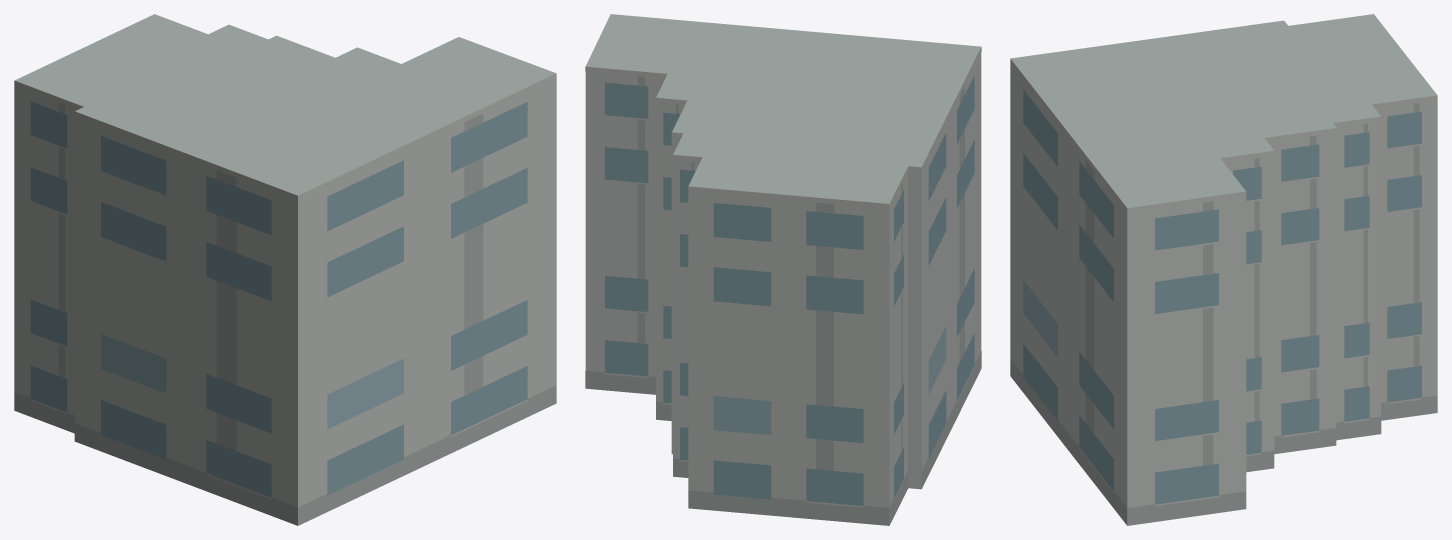
The model's file is survey-upis-32760308.glb.
3 views of the same model, side by side, from view 1: azimuth 30°, elevation 25°; view 2: azimuth 150°, elevation 25°; view 3: azimuth 270°, elevation 25° (orthographic). The views are drawn at different scales.
Visible parts, largest first — view 1: survey-upis-32760308.tmp; view 2: survey-upis-32760308.tmp; view 3: survey-upis-32760308.tmp.
Boxes of the visible parts, <box> form: survey-upis-32760308.tmp: <box>14,14,556,525</box>; survey-upis-32760308.tmp: <box>585,14,981,525</box>; survey-upis-32760308.tmp: <box>1010,14,1437,525</box>.
Size of the model in its own units: 20.02 by 15.25 by 18.6.
